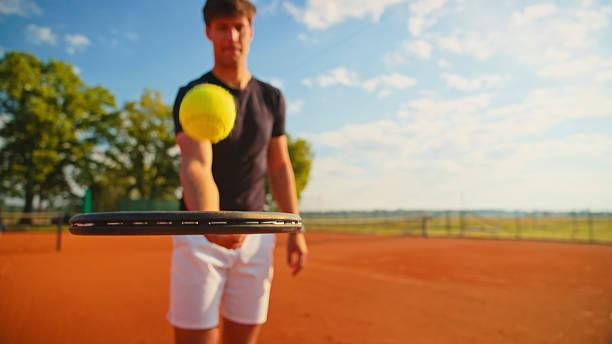ball_tennis: (180, 82, 239, 144)
